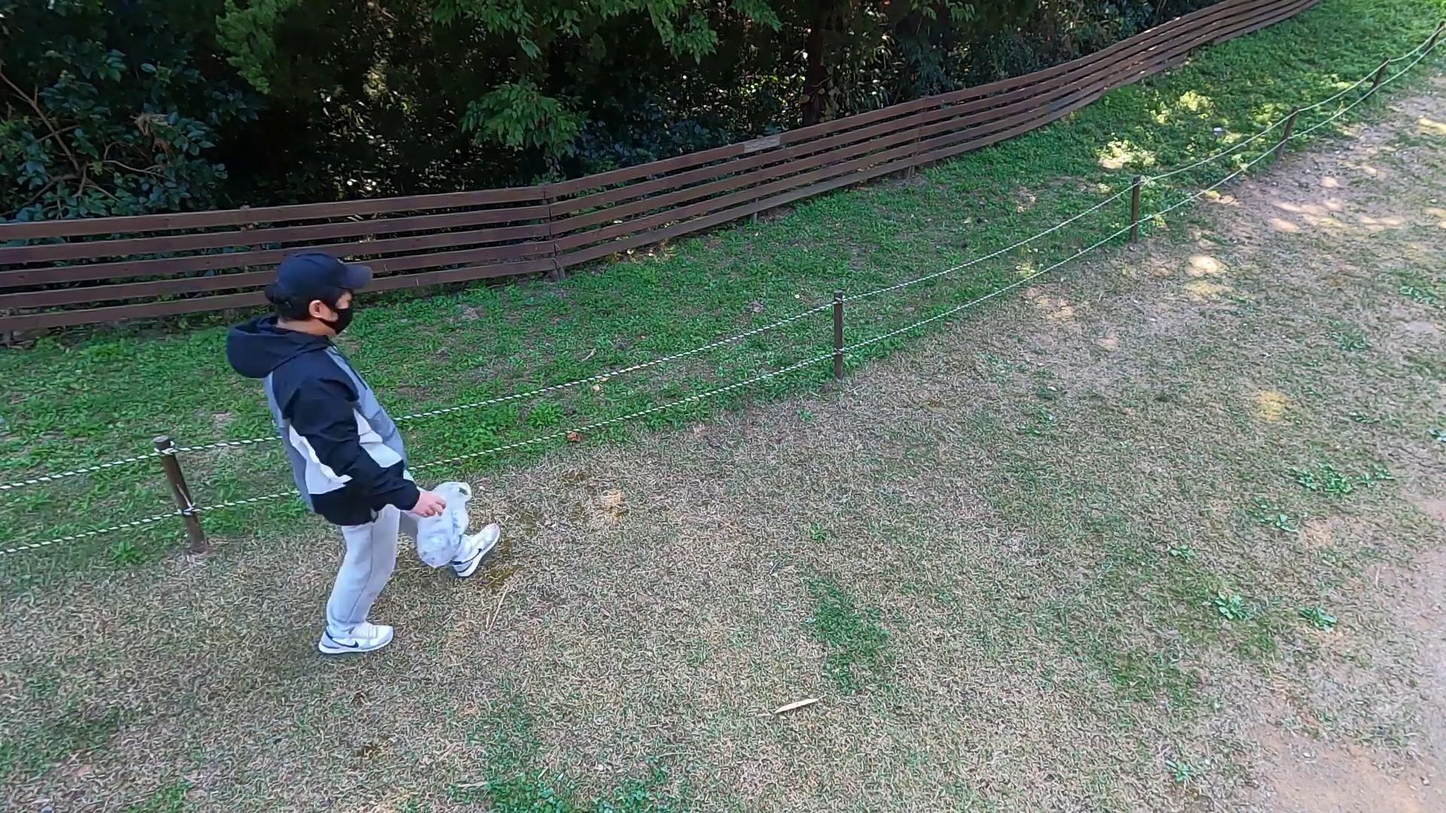person: (222, 250, 499, 671)
trash: (401, 474, 478, 571)
